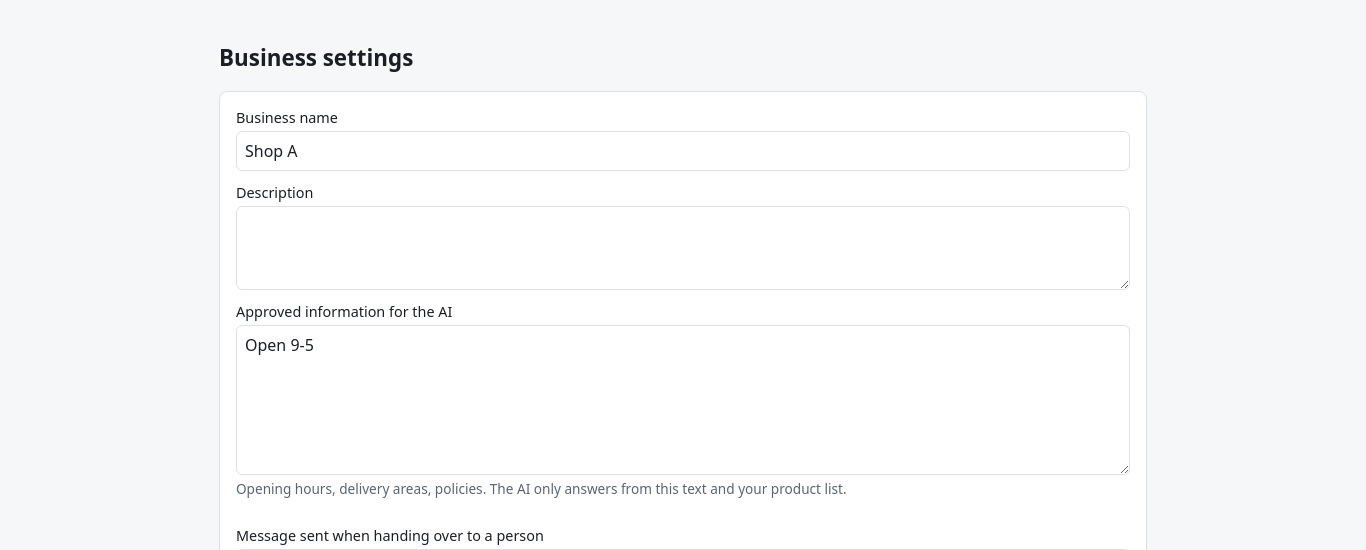
Test: settings page › validates required fields before saving
Clear the field labelled "Business name" at (683, 151), box [236,131,1130,171]
(page scrolled)
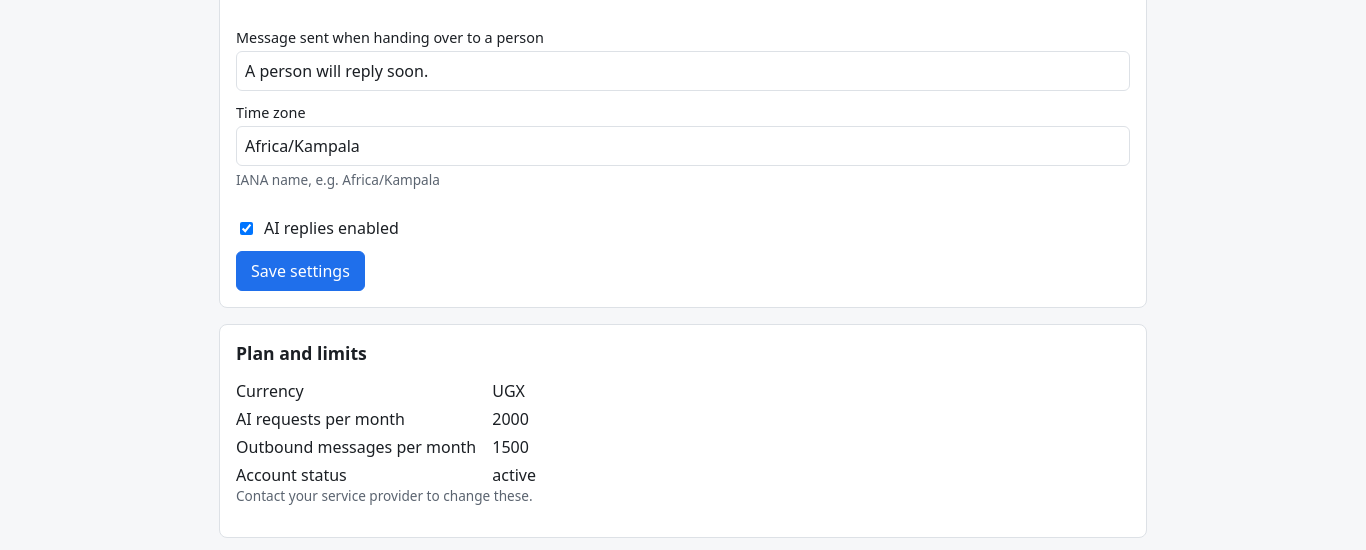
Click the button "Save settings" at (300, 271), box [236,251,365,291]
(page scrolled)
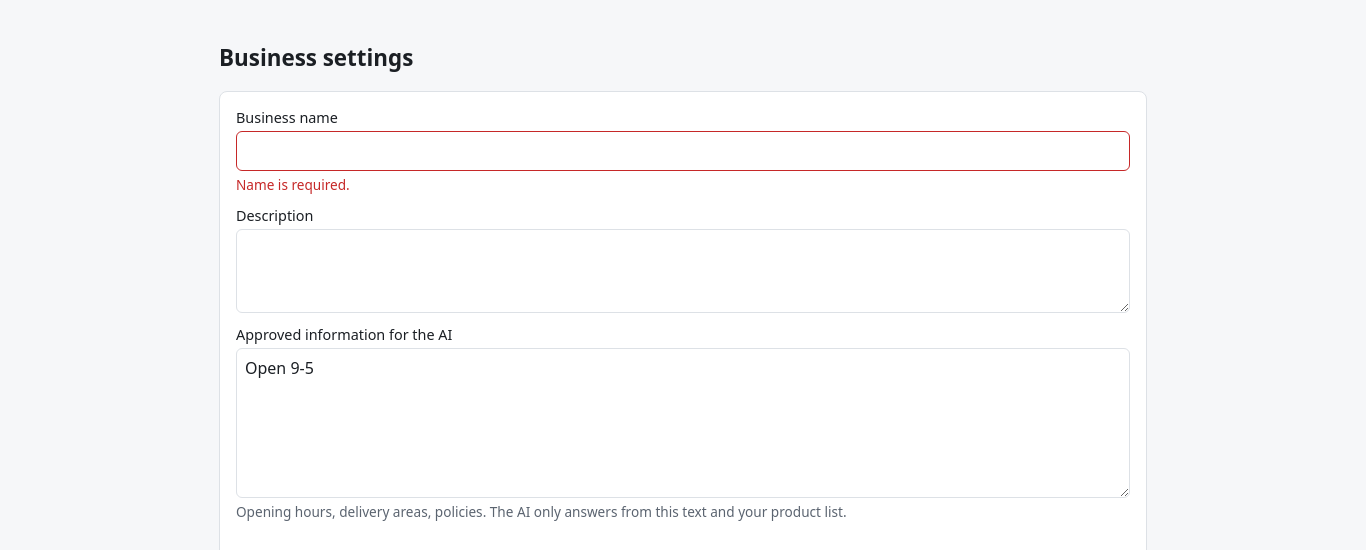
Check: the text "Name is required." is shown, box [236,175,350,194]
